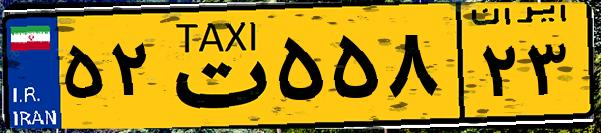2: (475, 38, 525, 113), (110, 28, 158, 98)
3: (525, 38, 570, 115)
5: (270, 28, 330, 110), (330, 28, 385, 110), (57, 26, 110, 100)
8: (385, 28, 445, 110)
ت: (158, 12, 270, 120)
